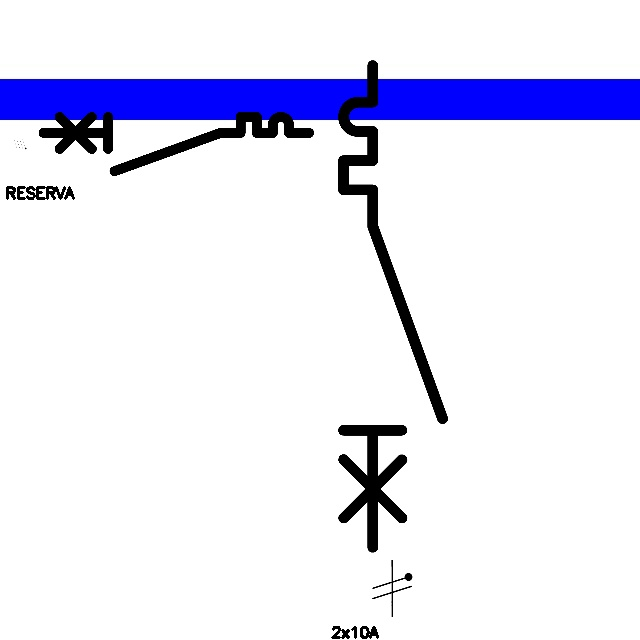interruptor_termomagnetico: (331, 53, 455, 560), (36, 110, 316, 178)
